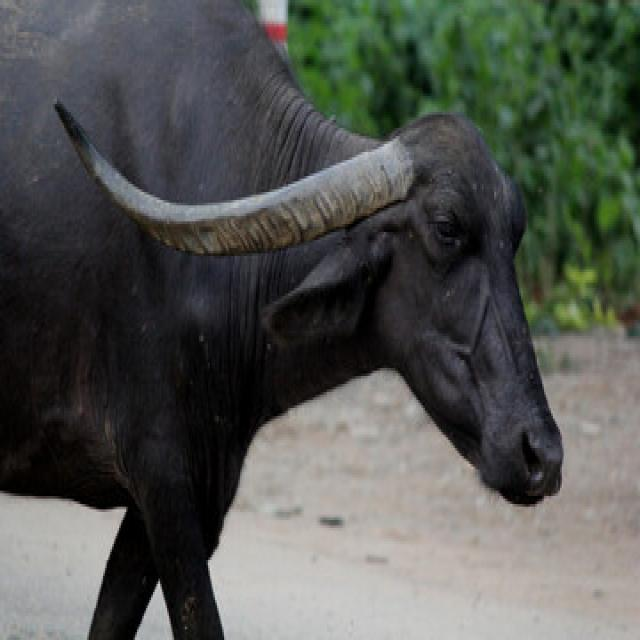Buffalo: (0, 0, 567, 637)
